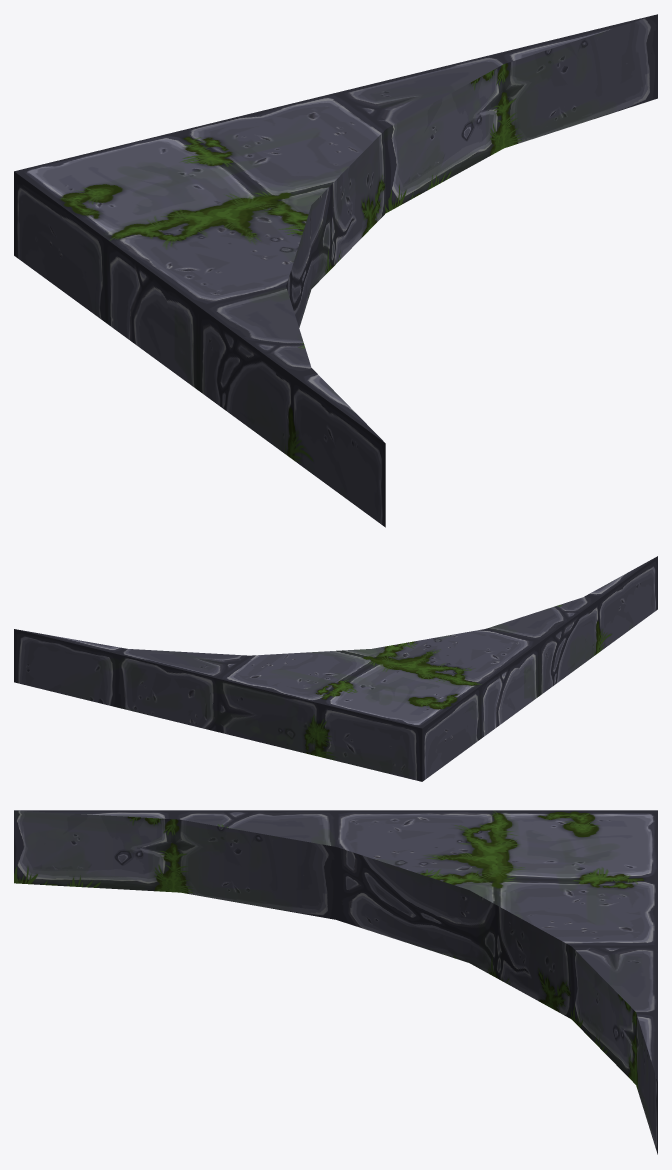
The model's file is MOD_Floor_01_E_concave_med.fbx.
3 views of the same model, one above another, from view 1: azimuth 30°, elevation 25°; view 2: azimuth 150°, elevation 25°; view 3: azimuth 270°, elevation 25° (orthographic). The views are drawn at different scales.
Visible parts, largest first — view 1: MOD_Floor_01_E_concave_med; view 2: MOD_Floor_01_E_concave_med; view 3: MOD_Floor_01_E_concave_med.
Part boxes in pixels (box(x1,y1,x2,y2)): MOD_Floor_01_E_concave_med: box(14, 14, 657, 527); MOD_Floor_01_E_concave_med: box(14, 556, 657, 781); MOD_Floor_01_E_concave_med: box(14, 810, 657, 1154).
Bounding box in the file's own units: 400 × 50 × 400.
